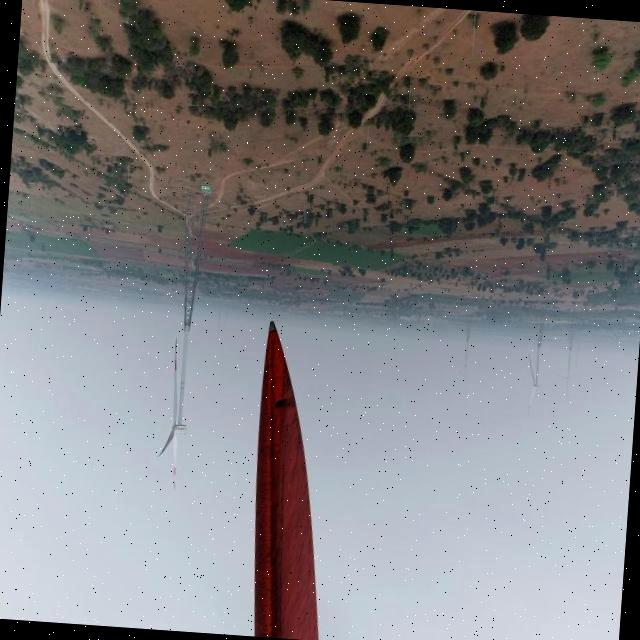Dirt: (255, 322, 318, 640)
